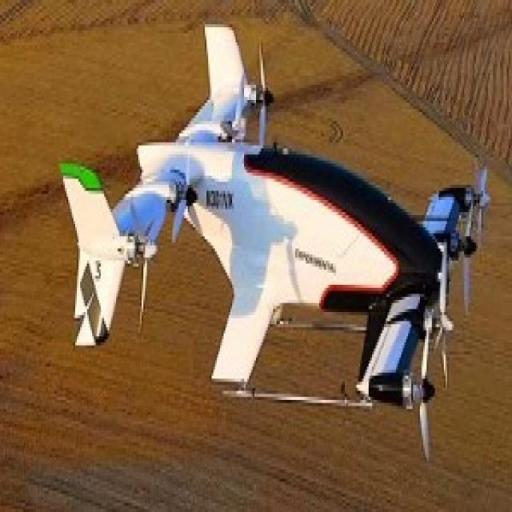uav: (53, 18, 485, 476)
